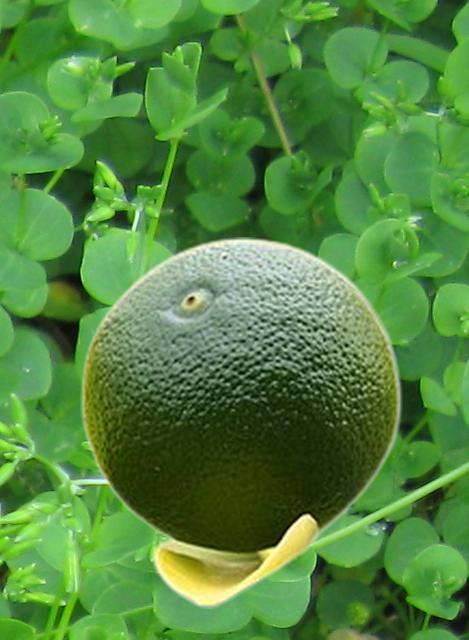calamansi: (80, 237, 401, 607)
